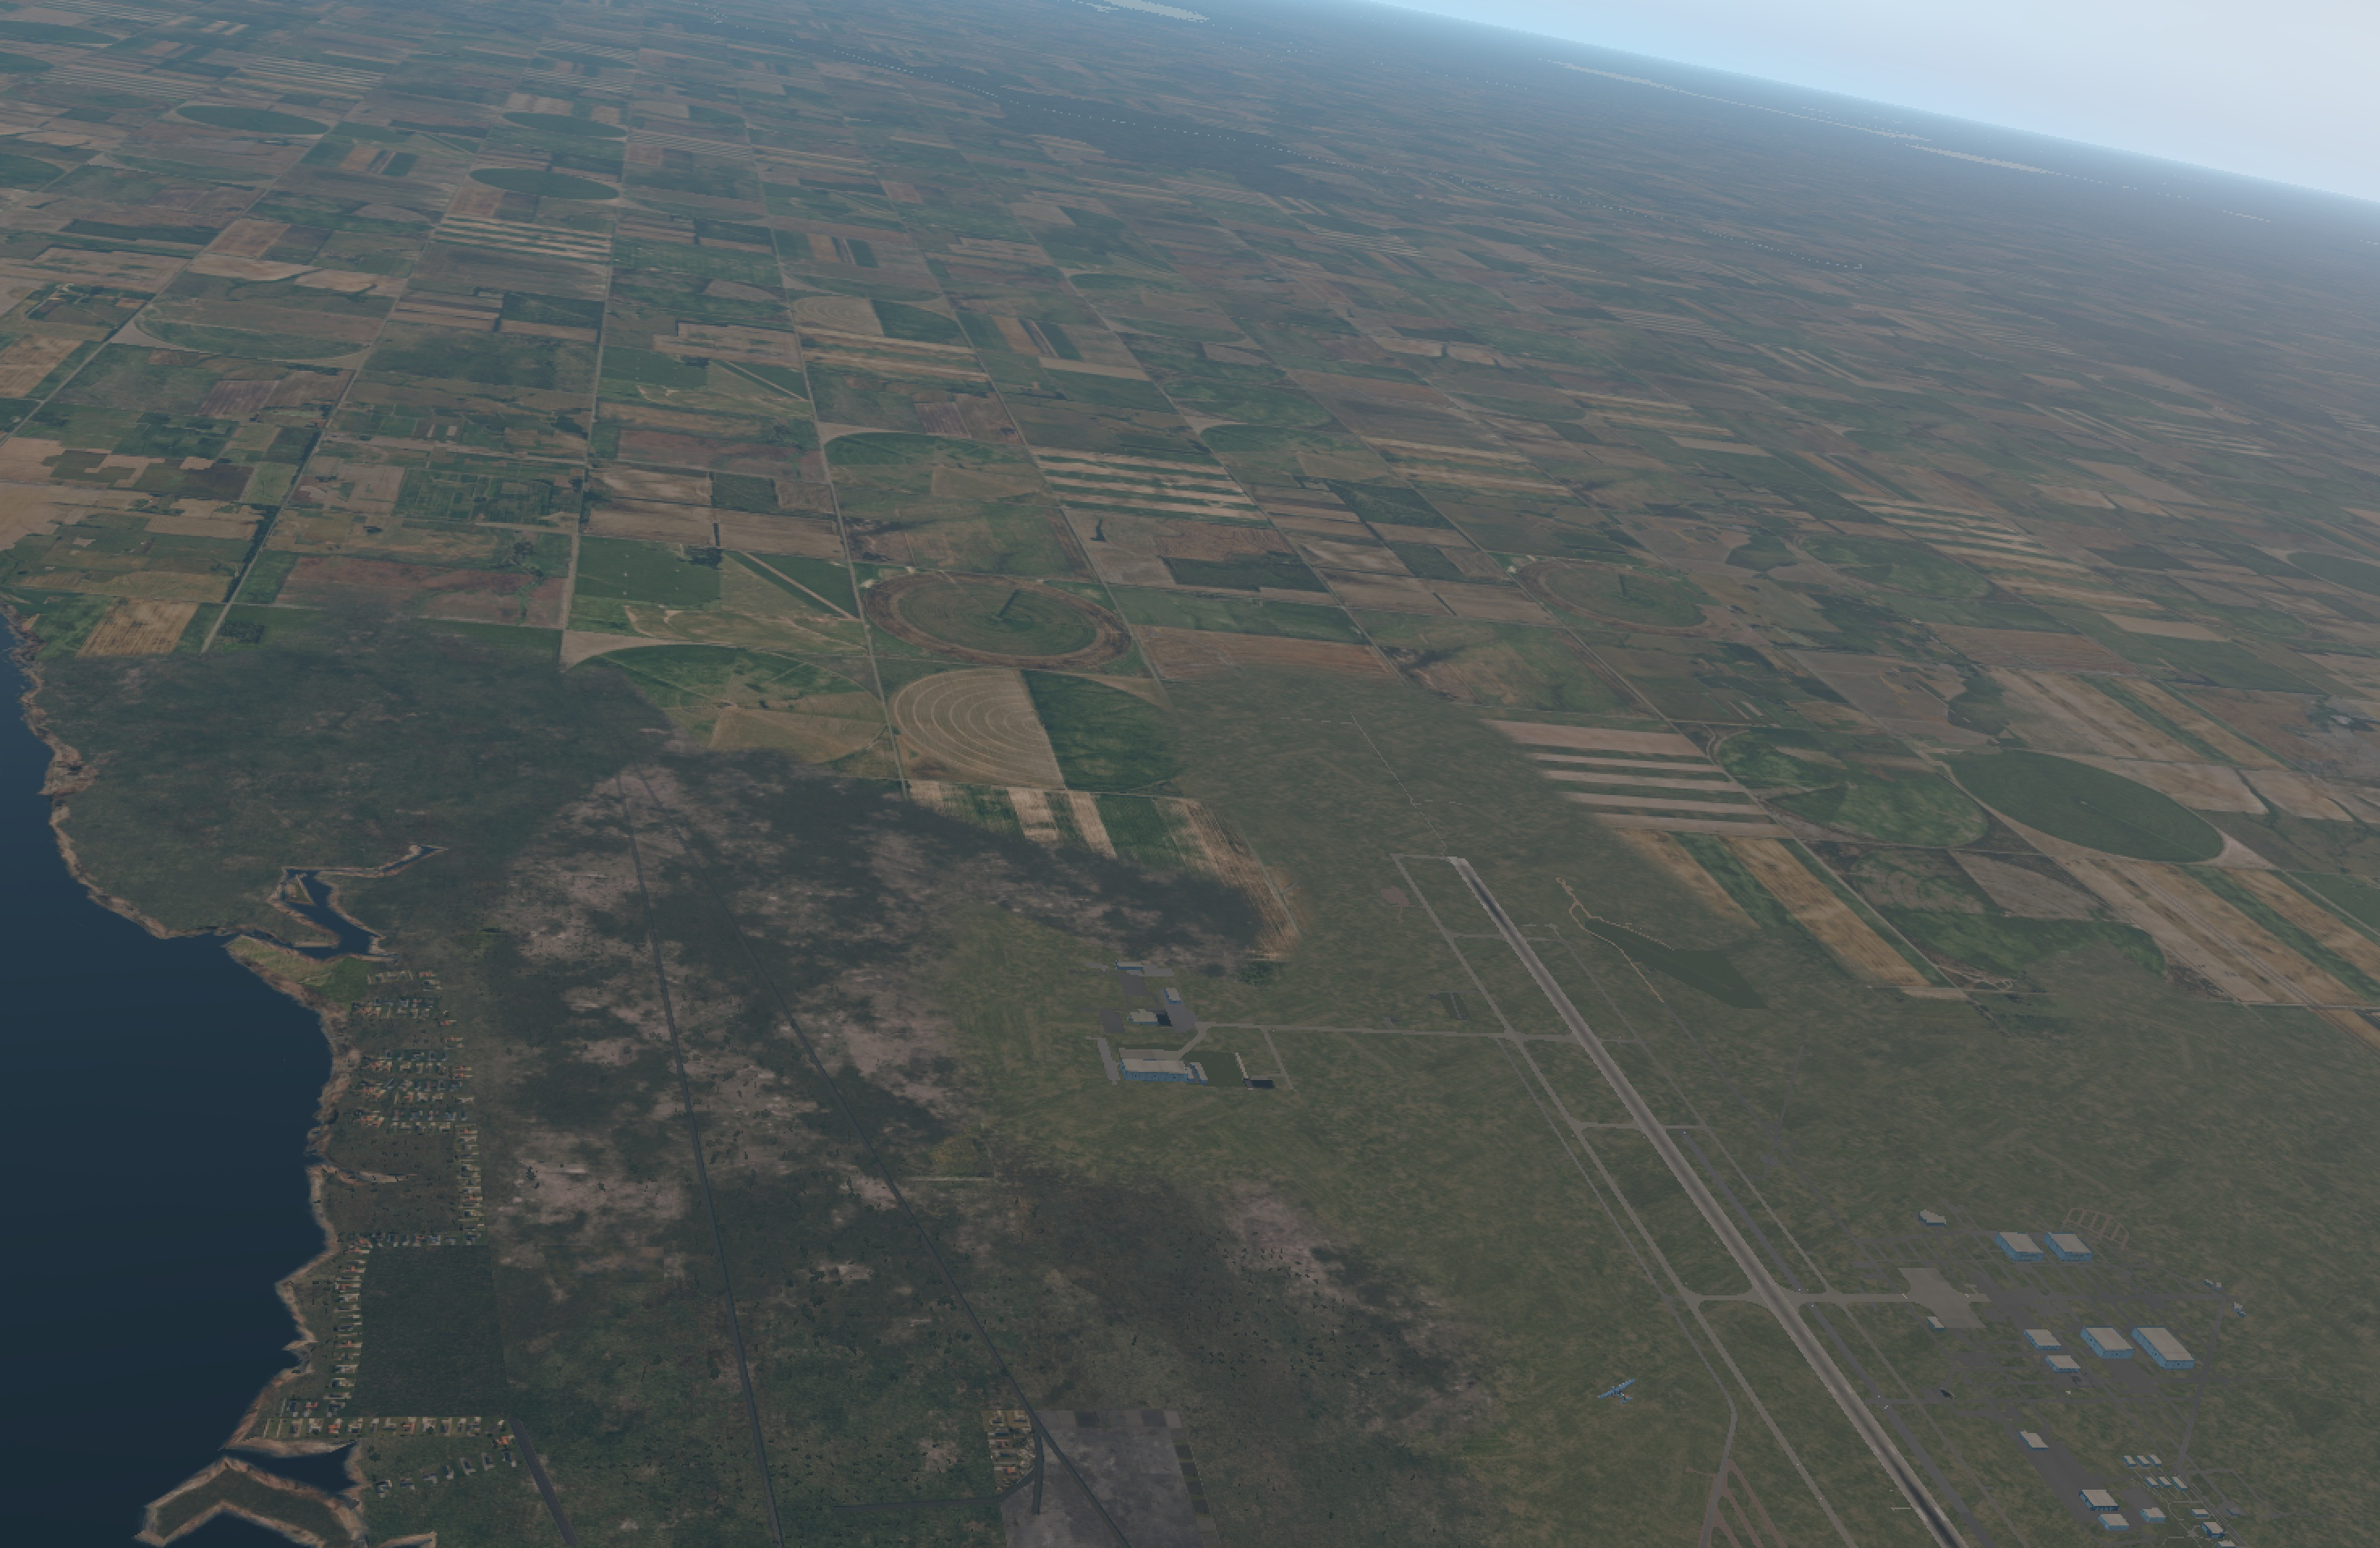aircraft: (1601, 1385, 1631, 1397)
